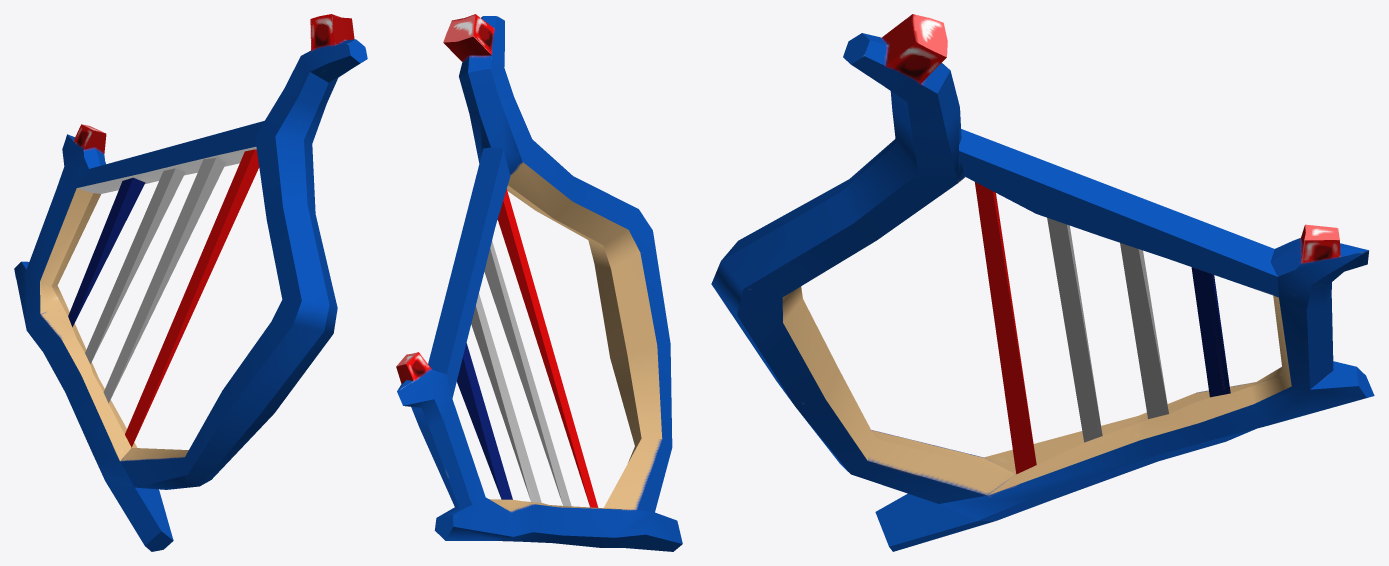
The model's file is Arpa2_000008.obj.
3 views of the same model, side by side, from view 1: azimuth 30°, elevation 25°; view 2: azimuth 150°, elevation 25°; view 3: azimuth 270°, elevation 25° (orthographic). The views are drawn at different scales.
Parts seen in each view (by area): view 1: a2_Arpa_1:pCube7; view 2: a2_Arpa_1:pCube7; view 3: a2_Arpa_1:pCube7.
Part boxes in pixels (bbox=[...]): a2_Arpa_1:pCube7: bbox=[14, 14, 367, 551]; a2_Arpa_1:pCube7: bbox=[396, 14, 682, 551]; a2_Arpa_1:pCube7: bbox=[711, 14, 1374, 551].
Bounding box in the file's own units: 3.64 × 7.76 × 7.15.
